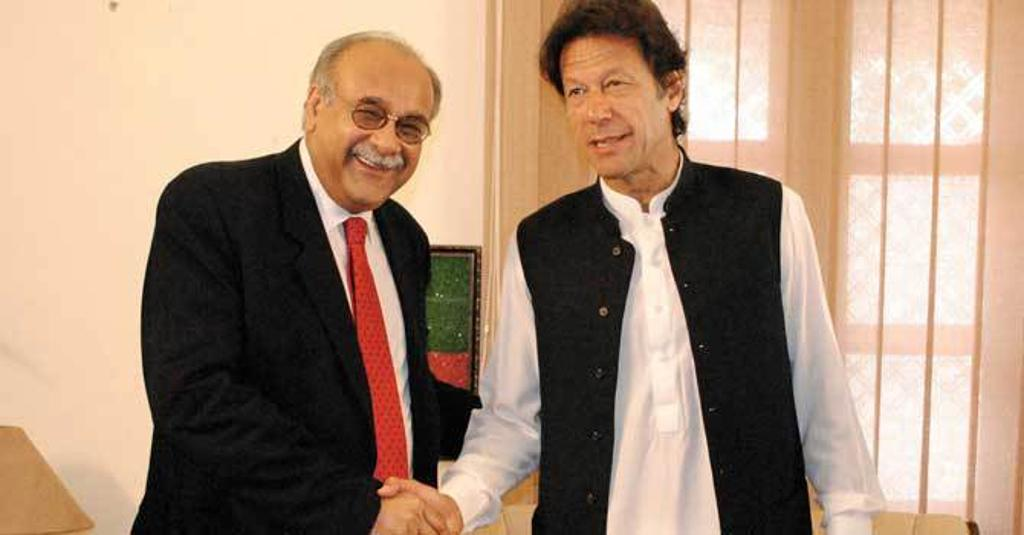face: (330, 56, 432, 208), (562, 38, 662, 176)
